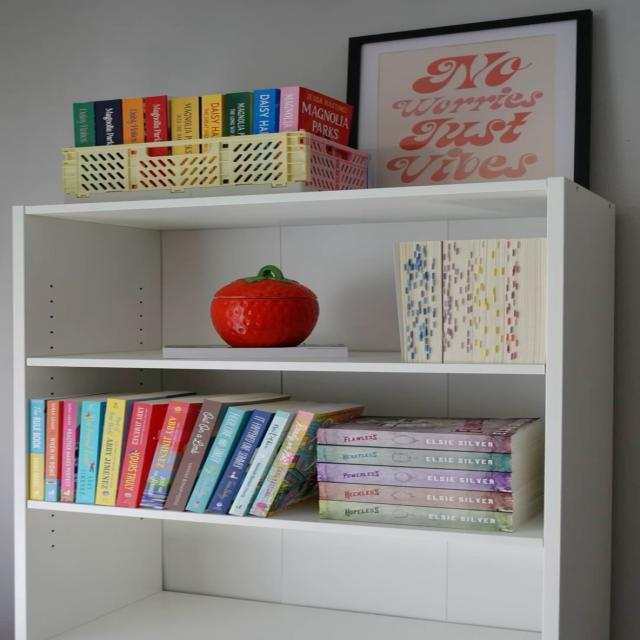book: (229, 409, 297, 516), (165, 399, 229, 510), (249, 411, 316, 517), (208, 410, 274, 514), (185, 407, 250, 512), (140, 401, 201, 509), (320, 500, 513, 533), (320, 483, 511, 513), (319, 463, 513, 492), (319, 445, 510, 474), (116, 402, 166, 507), (319, 430, 509, 453), (95, 396, 134, 505), (74, 400, 105, 504), (44, 400, 63, 501), (60, 400, 78, 502), (29, 399, 44, 500), (172, 98, 200, 140), (224, 94, 252, 134), (96, 101, 122, 144), (73, 102, 96, 147), (144, 97, 167, 141), (254, 89, 277, 133), (123, 99, 145, 142), (281, 87, 300, 131), (202, 96, 222, 137)
